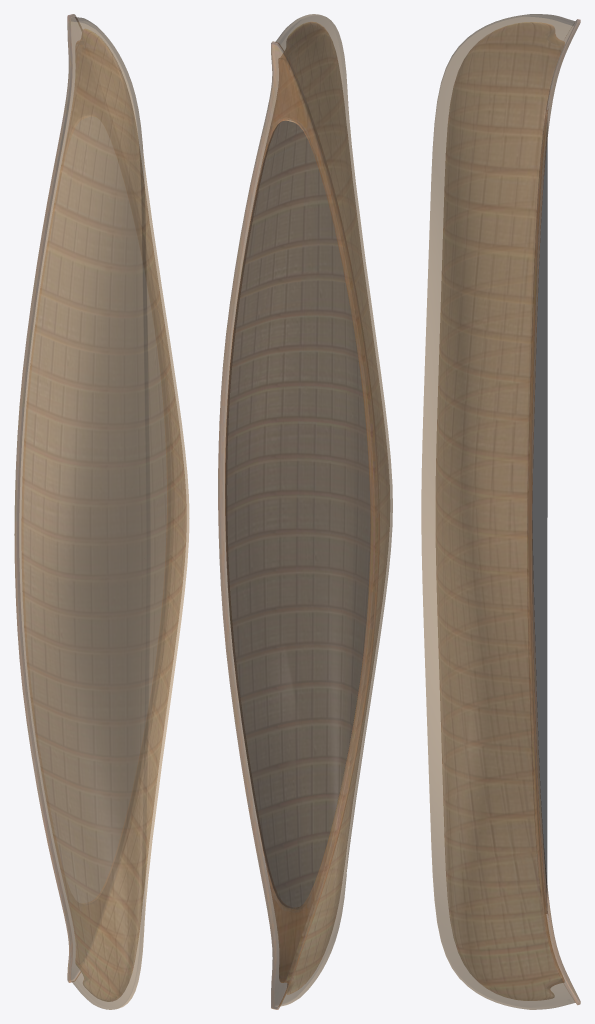
Rendered from canoeCollision.fbx.
3 views of the same model, side by side, from view 1: azimuth 30°, elevation 25°; view 2: azimuth 150°, elevation 25°; view 3: azimuth 270°, elevation 25° (orthographic).
Parts seen in each view (by area): view 1: canoeCollision; view 2: canoeCollision; view 3: canoeCollision.
Boxes of the visible parts, bbox=[...] form: canoeCollision: bbox=[14, 14, 189, 1009]; canoeCollision: bbox=[218, 14, 392, 1009]; canoeCollision: bbox=[421, 14, 580, 1009].
Bounding box in the file's own units: 177 × 1033 × 150.
Materials: 1 (1 with a texture image).
